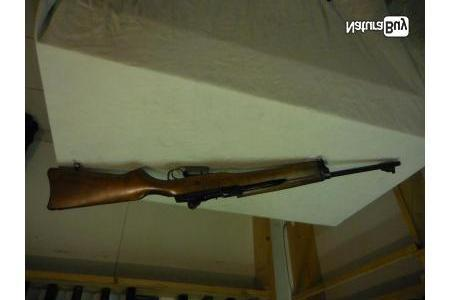larga: (46, 155, 403, 212)
